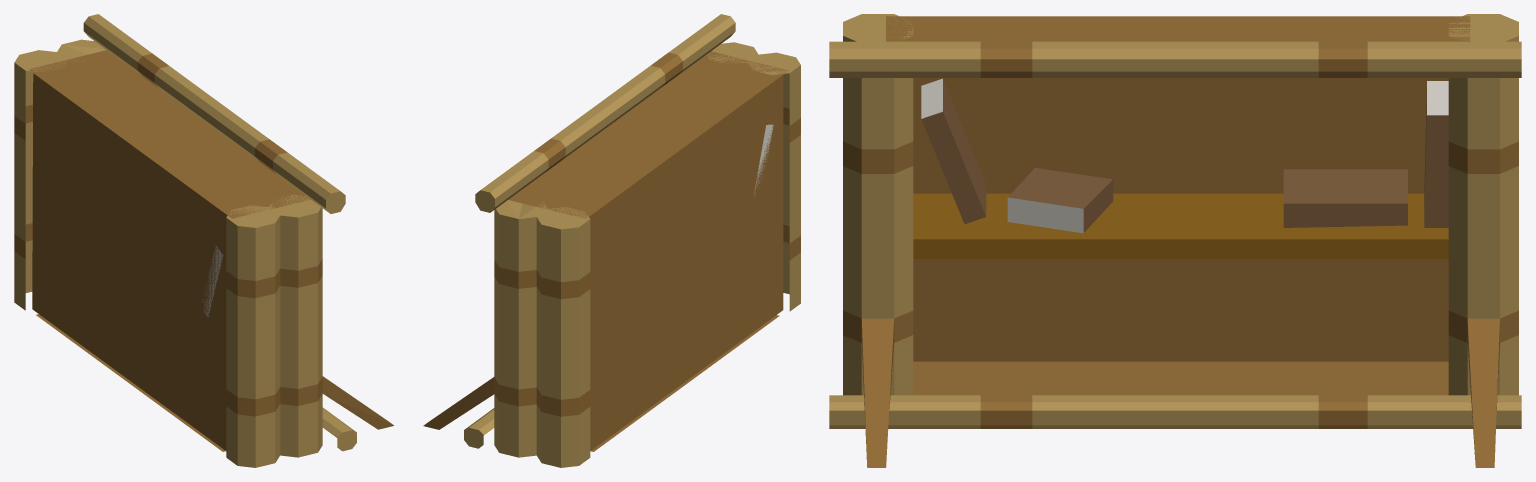
File: obj_bookcase_7_0.obj
The picture shows the model from 3 angles, left to right: view 1: azimuth 30°, elevation 25°; view 2: azimuth 150°, elevation 25°; view 3: azimuth 270°, elevation 25°; orthographic projection. The views are drawn at different scales.
Size of the model in its own units: 0.7578 by 1.19 by 2.
